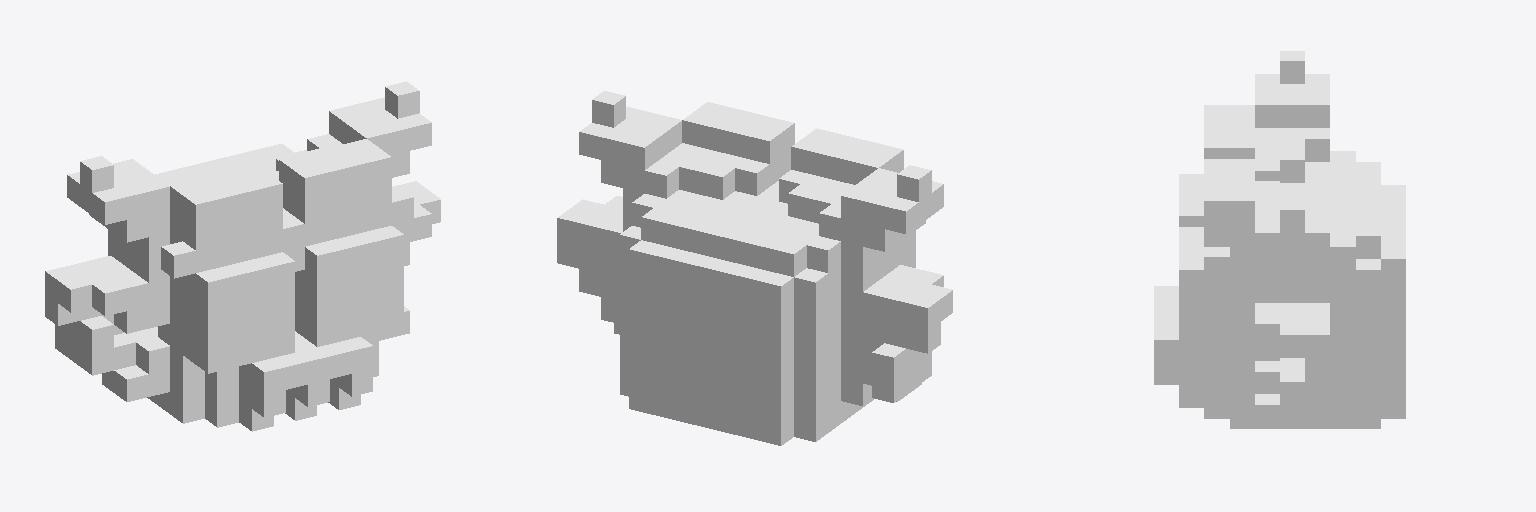
The model's file is gglive_main_head.obj.
The picture shows the model from 3 angles: view 1: azimuth 30°, elevation 25°; view 2: azimuth 150°, elevation 25°; view 3: azimuth 270°, elevation 25°; orthographic projection.
Parts seen in each view (by area): view 1: gglive_main_head; view 2: gglive_main_head; view 3: gglive_main_head.
Boxes of the visible parts, x1=… form: gglive_main_head: x1=45, y1=81, x2=440, y2=431; gglive_main_head: x1=557, y1=91, x2=952, y2=445; gglive_main_head: x1=1154, y1=51, x2=1405, y2=428.
Bounding box in the file's own units: 17 × 11 × 10.